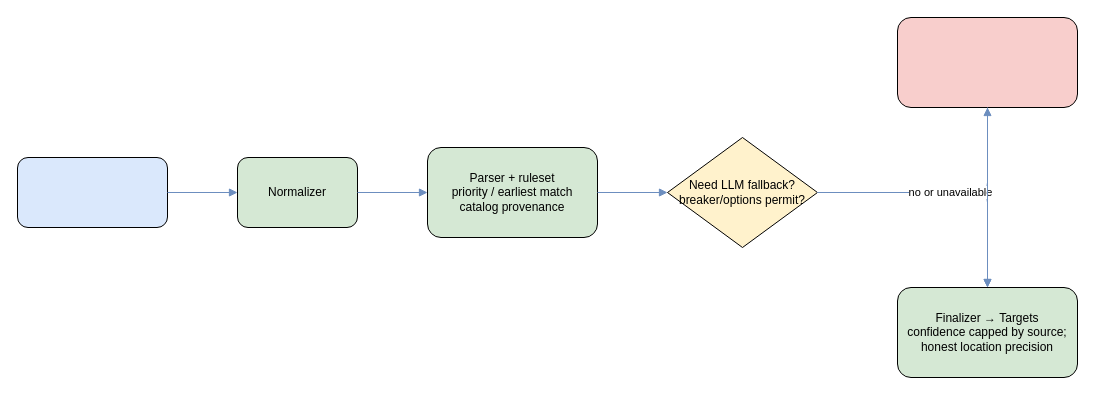
This 1095x395 diagram has some shape labels left out. The shapes that lost their labels are listed below. From the top down, each one's centre as x and y in pixels, then its label:
point (987, 62): LLM worker audit request/result/error model, latency, cost
point (92, 192): Raw text / structured payload
